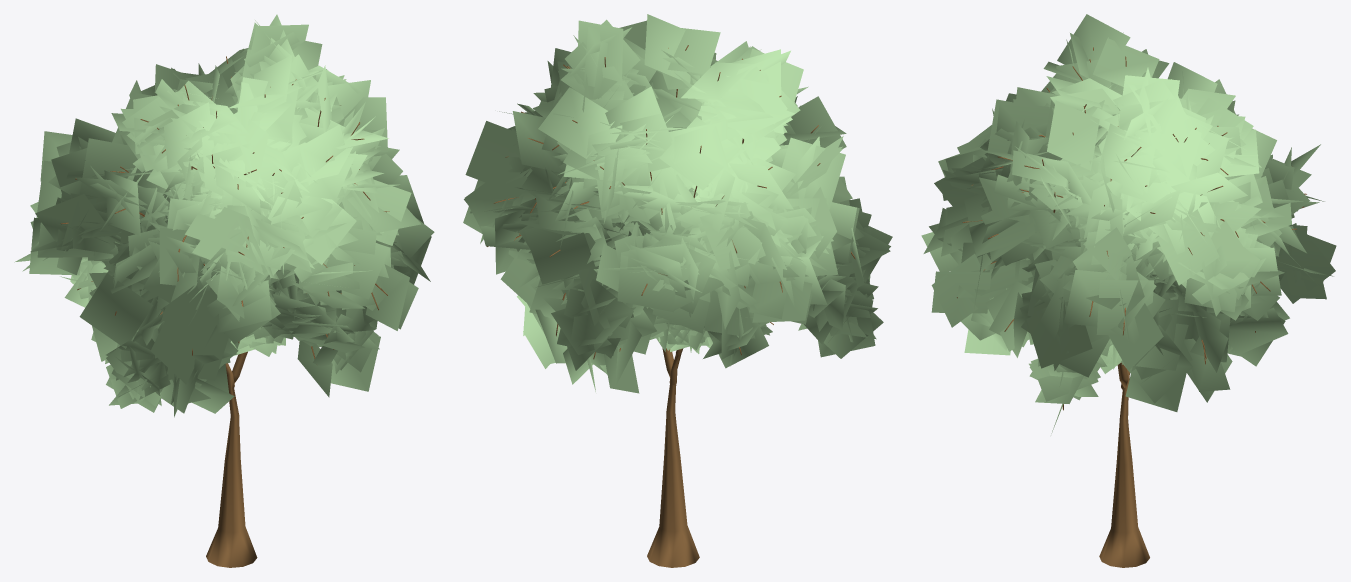
File: Tree model test 4.fbx
The picture shows the model from 3 angles, left to right: view 1: azimuth 30°, elevation 25°; view 2: azimuth 150°, elevation 25°; view 3: azimuth 270°, elevation 25°; orthographic projection. The views are drawn at different scales.
Visible parts, largest first — view 1: Leaves, tree; view 2: Leaves, tree; view 3: Leaves, tree.
Boxes of the visible parts, x1=… form: Leaves: x1=14, y1=14, x2=434, y2=417; tree: x1=60, y1=56, x2=389, y2=567; Leaves: x1=463, y1=14, x2=892, y2=393; tree: x1=486, y1=45, x2=855, y2=567; Leaves: x1=921, y1=14, x2=1336, y2=433; tree: x1=957, y1=47, x2=1306, y2=567.
Size of the model in its own units: 1483 by 1472 by 2004.
